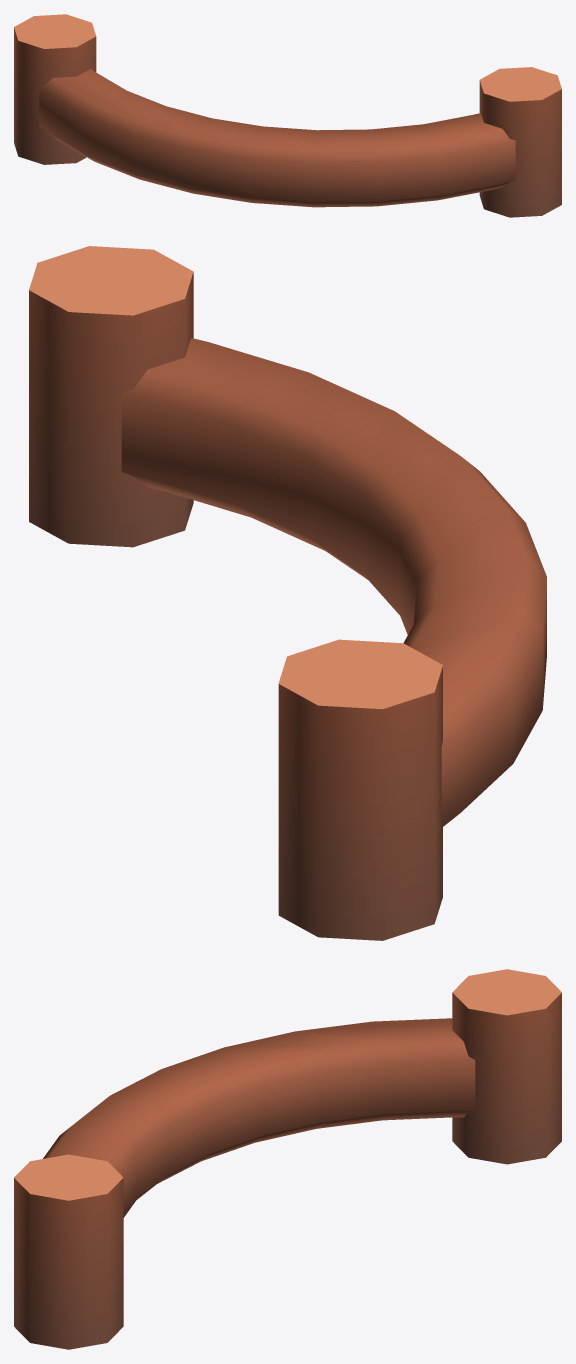
File: fence-low-corner-curved.glb
3 views of the same model, one above another, from view 1: azimuth 30°, elevation 25°; view 2: azimuth 150°, elevation 25°; view 3: azimuth 270°, elevation 25° (orthographic). The views are drawn at different scales.
Parts seen in each view (by area): view 1: fence-low-corner-curved; view 2: fence-low-corner-curved; view 3: fence-low-corner-curved.
Part boxes in pixels (box(x1,y1,x2,y2)): fence-low-corner-curved: box(14, 14, 561, 217); fence-low-corner-curved: box(29, 246, 546, 940); fence-low-corner-curved: box(14, 969, 561, 1349).
Bounding box in the file's own units: 1 × 0.3 × 1.
1 material, 1 textured.
